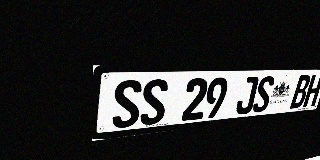2: (182, 78, 209, 121)
9: (203, 77, 229, 119)
B: (290, 75, 312, 109)
H: (303, 75, 320, 107)
J: (235, 76, 259, 115)
S: (112, 80, 142, 129), (140, 79, 169, 126), (252, 76, 276, 113)
